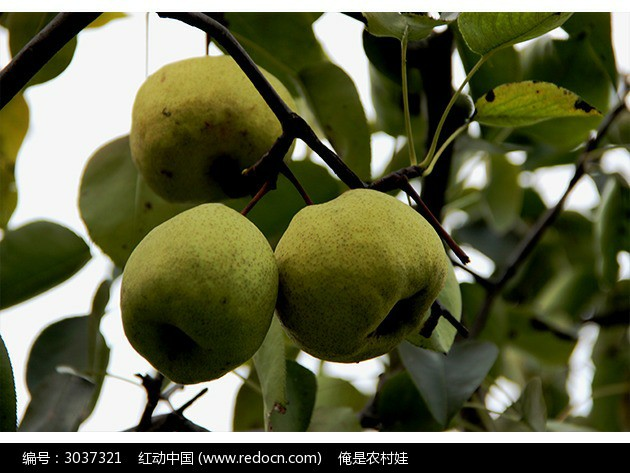pear: (274, 188, 444, 363), (121, 204, 276, 384), (132, 56, 296, 202)
